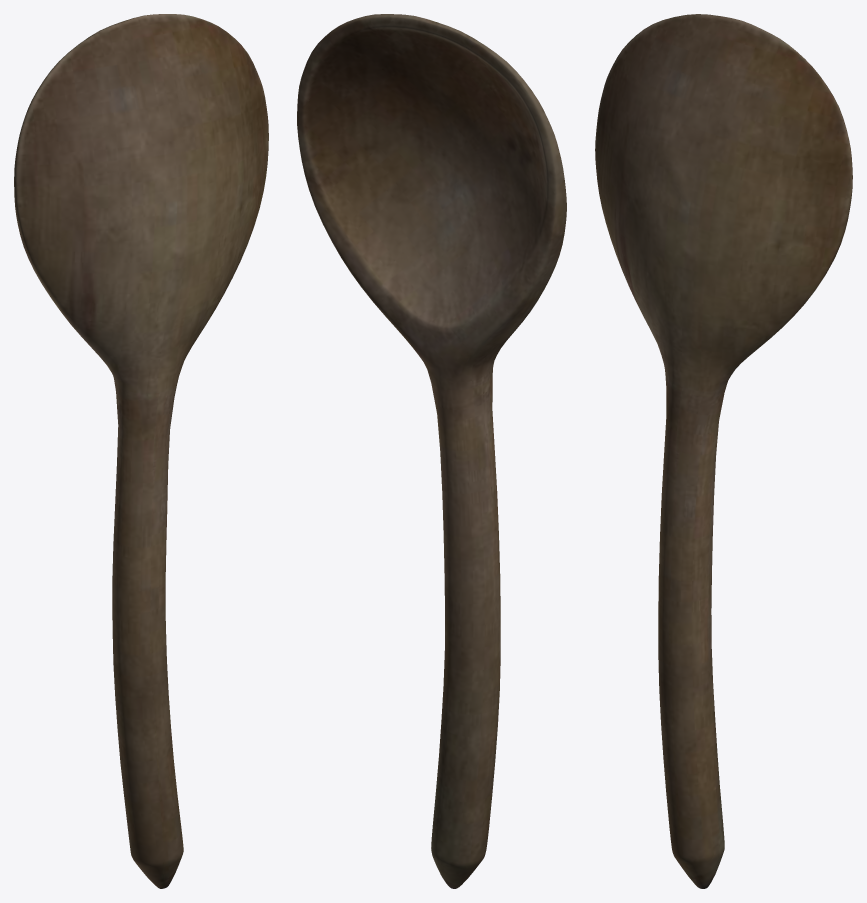
Rendered from spoon.glb.
The picture shows the model from 3 angles, left to right: view 1: azimuth 30°, elevation 25°; view 2: azimuth 150°, elevation 25°; view 3: azimuth 330°, elevation 25°; orthographic projection. The views are drawn at different scales.
Visible parts, largest first — view 1: wooden_spoon; view 2: wooden_spoon; view 3: wooden_spoon.
Part boxes in pixels (x1=…): wooden_spoon: x1=14, y1=14, x2=268, y2=888; wooden_spoon: x1=297, y1=14, x2=566, y2=888; wooden_spoon: x1=595, y1=14, x2=852, y2=888.
Bounding box in the file's own units: 0.1001 × 0.32 × 0.0305.
1 material, 1 textured.
